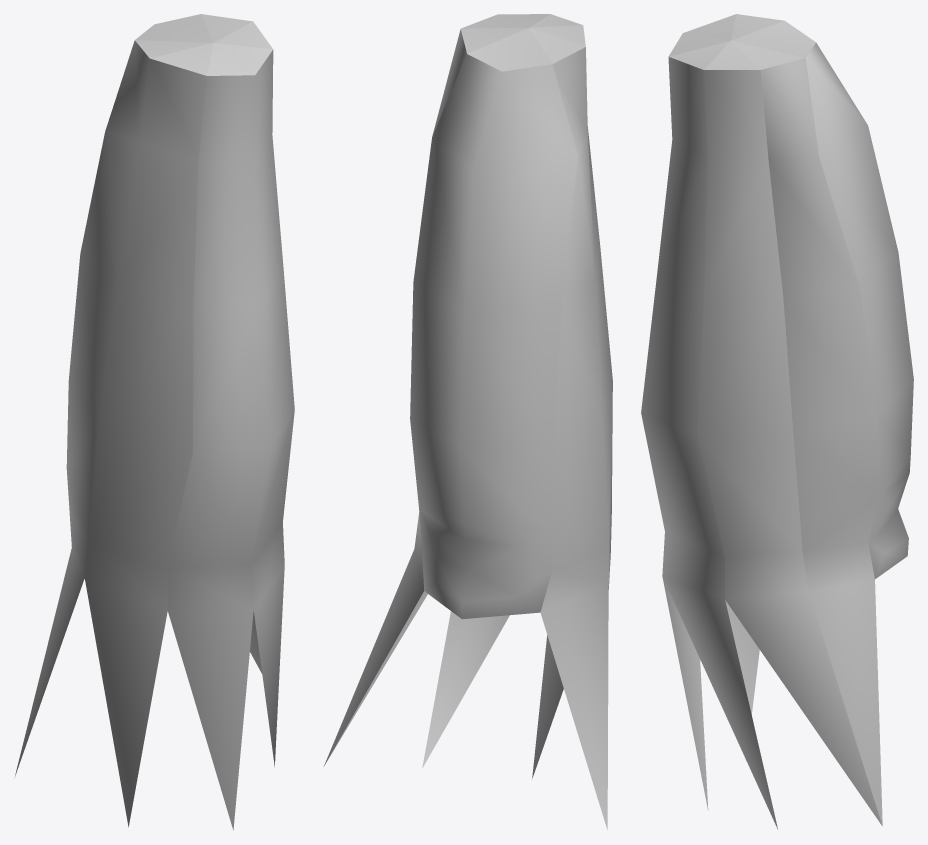
File: left_leg.glb
3 renders of one model, left to right at view 1: azimuth 30°, elevation 25°; view 2: azimuth 150°, elevation 25°; view 3: azimuth 270°, elevation 25°, orthographic. The views are drawn at different scales.
Visible parts, largest first — view 1: trousers-white_LEFT_LEG; view 2: trousers-white_LEFT_LEG; view 3: trousers-white_LEFT_LEG.
Boxes of the visible parts, x1,y1,x2,y2 form: trousers-white_LEFT_LEG: (14, 14, 294, 830); trousers-white_LEFT_LEG: (323, 14, 612, 829); trousers-white_LEFT_LEG: (641, 14, 913, 829).
Size of the model in its own units: 0.2272 by 0.6196 by 0.1996.
Materials: 1 (1 with a texture image).
